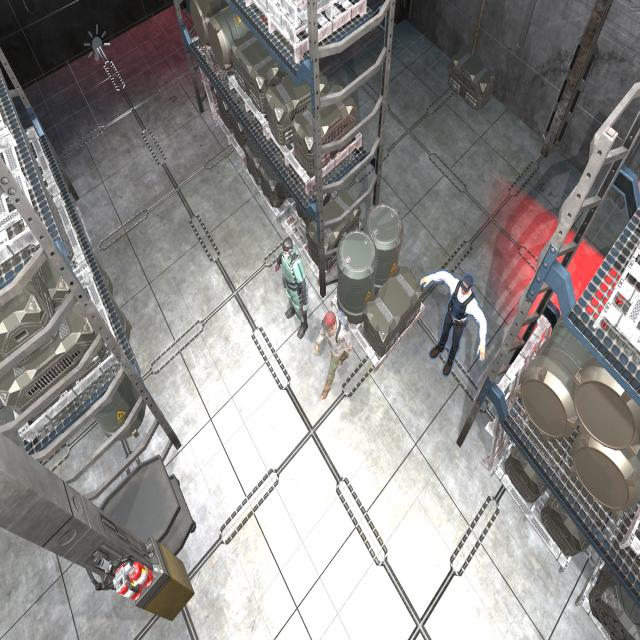thiefs: (311, 306, 355, 402)
